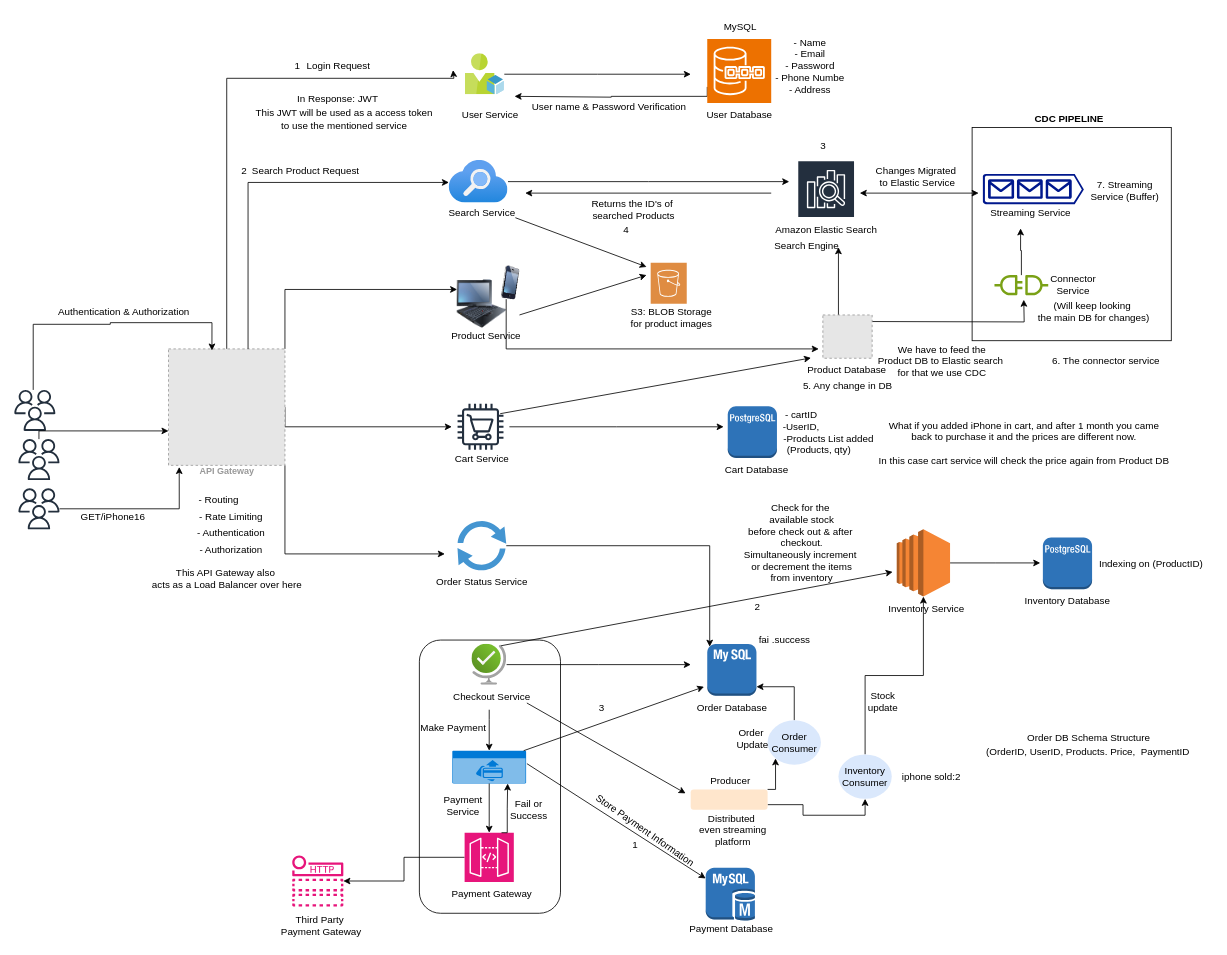
This 1227x955 diagram has some shape labels left out. Grey dashed boxes stand in for pictures. The box of each missing label's shape, as (x1, y1, x2, y2) in pixels:
KAFKA: (690, 789, 767, 809)
Payment: (452, 750, 526, 783)
